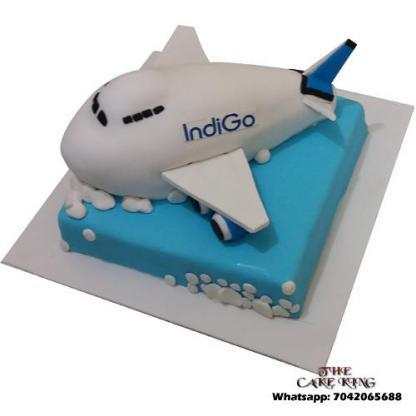CIV_Plane: (54, 23, 364, 235)
